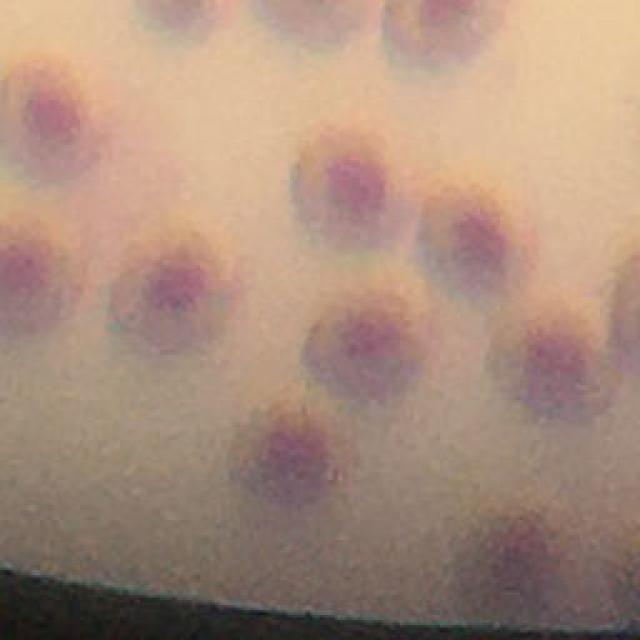RBC: (104, 220, 237, 365), (484, 291, 623, 424), (408, 176, 543, 307), (288, 117, 408, 262), (299, 286, 436, 406), (450, 498, 577, 624), (0, 52, 110, 192), (225, 408, 362, 518), (0, 216, 84, 354), (380, 0, 503, 84)
